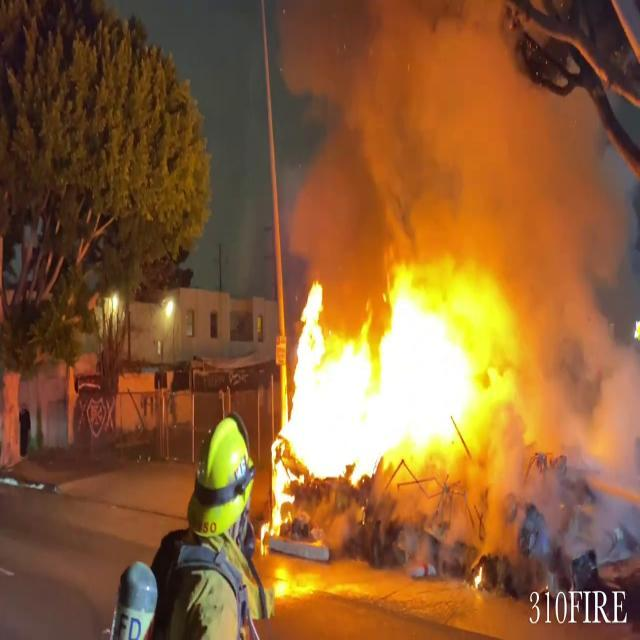Fire: (269, 233, 531, 516)
Smoke: (272, 0, 640, 280), (485, 74, 640, 536)
